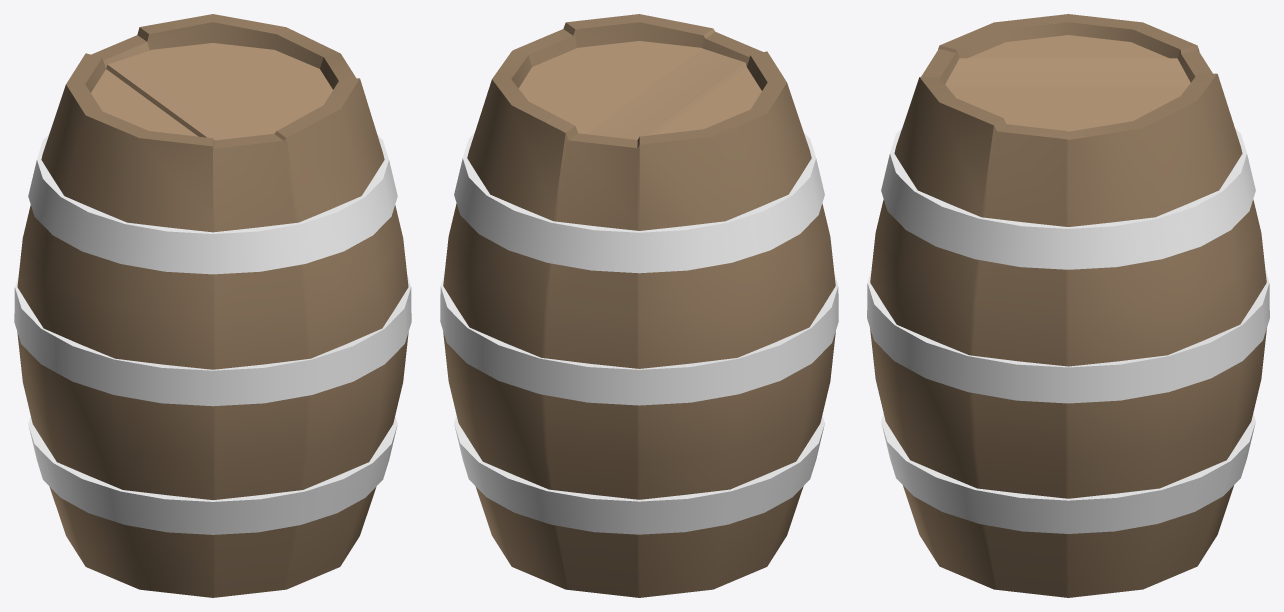
Rendered from eastbrook_barrel.glb.
The picture shows the model from 3 angles, left to right: view 1: azimuth 30°, elevation 25°; view 2: azimuth 150°, elevation 25°; view 3: azimuth 270°, elevation 25°; orthographic projection.
Visible parts, largest first — view 1: props/MI_Trim_Furniture, props/MI_Trim_Metal; view 2: props/MI_Trim_Furniture, props/MI_Trim_Metal; view 3: props/MI_Trim_Furniture, props/MI_Trim_Metal.
Boxes of the visible parts, x1,y1,x2,y2 form: props/MI_Trim_Furniture: (17,14,408,597); props/MI_Trim_Metal: (14,134,411,534); props/MI_Trim_Furniture: (443,14,835,597); props/MI_Trim_Metal: (440,133,838,534); props/MI_Trim_Furniture: (870,14,1266,597); props/MI_Trim_Metal: (867,127,1269,533).
Size of the model in its own units: 0.5584 by 0.7132 by 0.5584.
